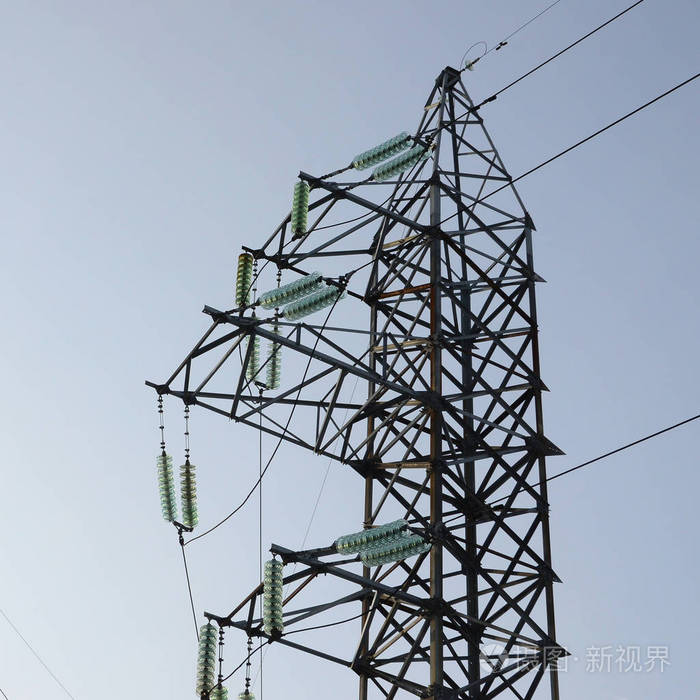insulator: (257, 271, 349, 319), (335, 519, 430, 565), (350, 132, 426, 184), (156, 452, 198, 528), (260, 560, 287, 637), (194, 625, 221, 699), (233, 248, 253, 308), (266, 325, 284, 389), (288, 180, 308, 233), (245, 328, 257, 379)
